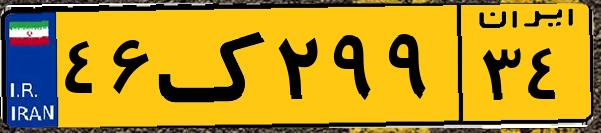2: (270, 28, 330, 110)
3: (475, 38, 525, 113)
4: (57, 26, 110, 100), (525, 38, 570, 115)
6: (110, 28, 158, 98)
9: (385, 28, 445, 110), (330, 28, 385, 110)
ک: (158, 12, 270, 120)
